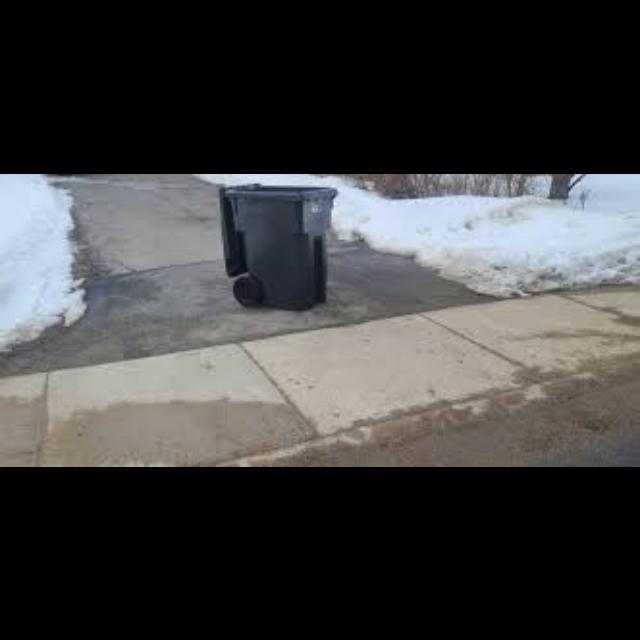Trash_Can_Empty: (226, 181, 338, 311)
